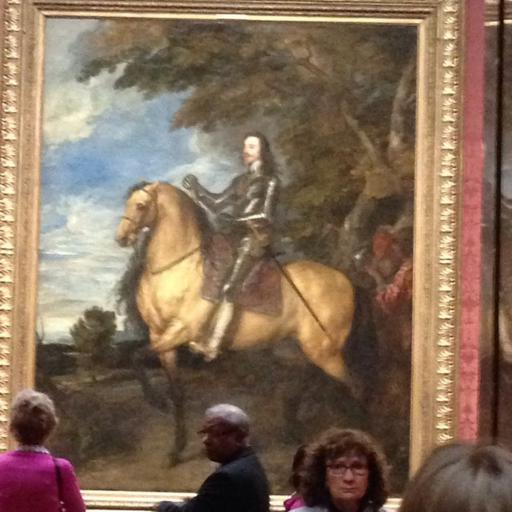horse: (116, 178, 385, 472)
